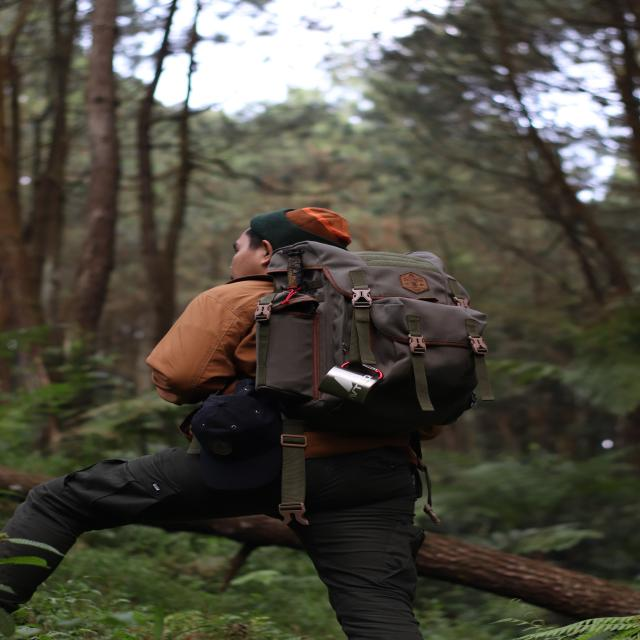backpack: (256, 244, 485, 440)
